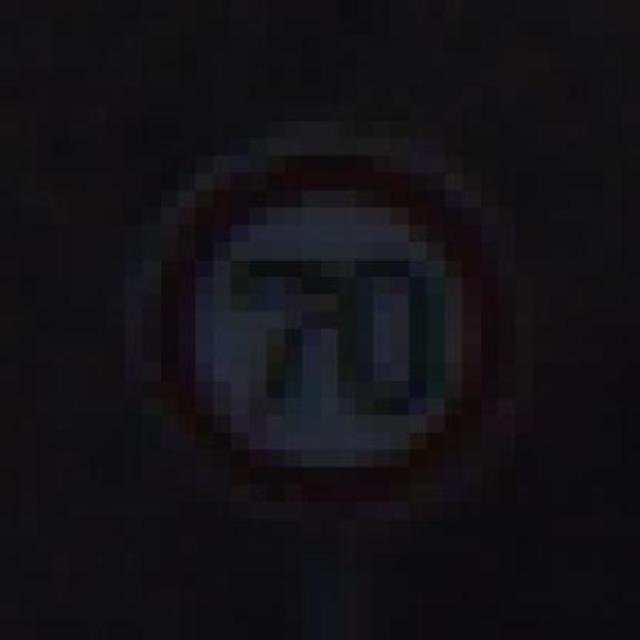forb_speed_over_70: (153, 152, 505, 503)
